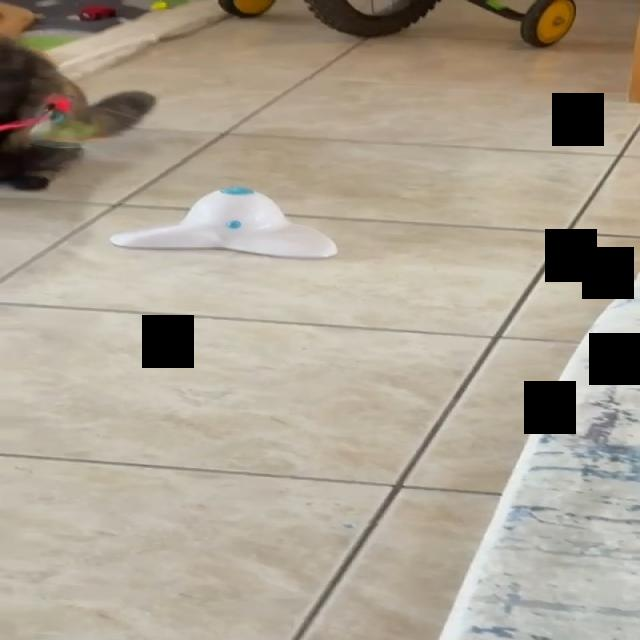authorized: (0, 1, 156, 191)
